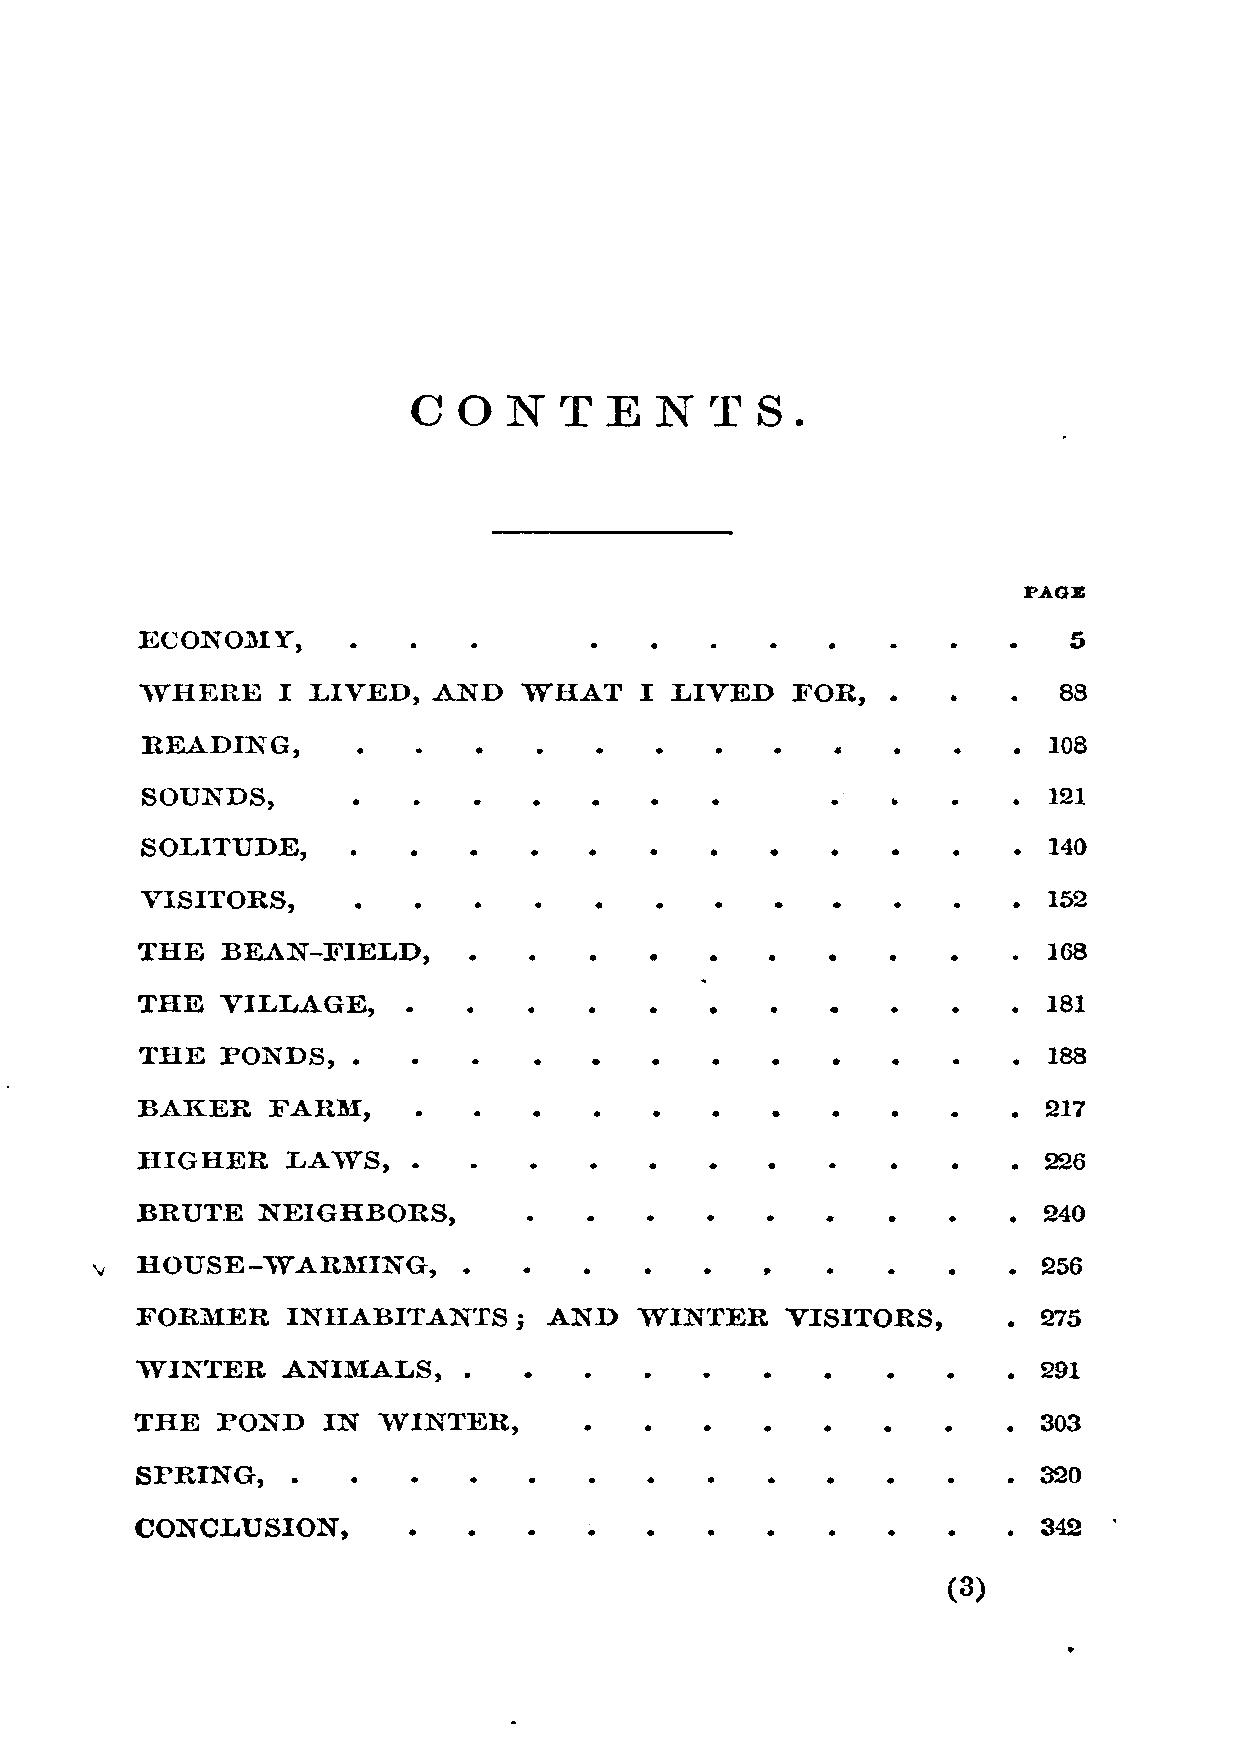TOC_chapter: (136, 1302, 946, 1333), (136, 679, 870, 709), (129, 1408, 521, 1436), (129, 1355, 446, 1388), (136, 1201, 458, 1229), (136, 938, 436, 965), (134, 1253, 439, 1278), (136, 1147, 395, 1176), (136, 1092, 372, 1123), (132, 989, 381, 1017), (127, 1512, 353, 1542), (137, 1044, 340, 1070), (140, 832, 310, 862), (136, 627, 309, 654), (133, 886, 303, 913), (137, 731, 302, 758), (136, 782, 278, 811), (130, 1461, 266, 1490)
TOC_pagenumber: (1037, 1512, 1087, 1541), (1036, 1460, 1084, 1486), (1045, 939, 1092, 965), (1037, 1253, 1084, 1278), (1044, 1044, 1088, 1070), (1043, 1094, 1087, 1119), (1037, 1358, 1082, 1384), (1041, 1202, 1090, 1225), (1039, 1304, 1082, 1330), (1039, 1410, 1083, 1435), (1047, 832, 1088, 858), (1041, 1151, 1087, 1173), (1047, 734, 1091, 756), (1045, 992, 1086, 1015), (1047, 886, 1091, 906), (1047, 785, 1087, 807), (1057, 676, 1088, 703), (1071, 627, 1088, 652)
chapter: (407, 389, 805, 429)
